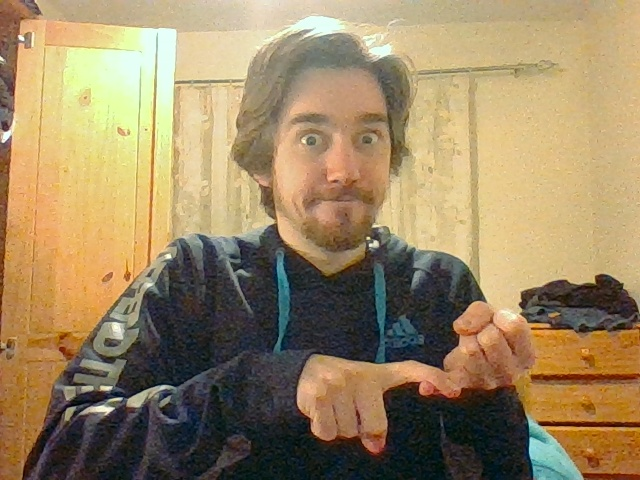step: (315, 299, 538, 456)
